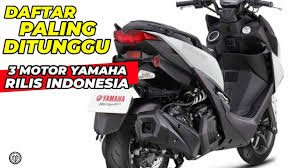motor: (101, 6, 285, 168)
